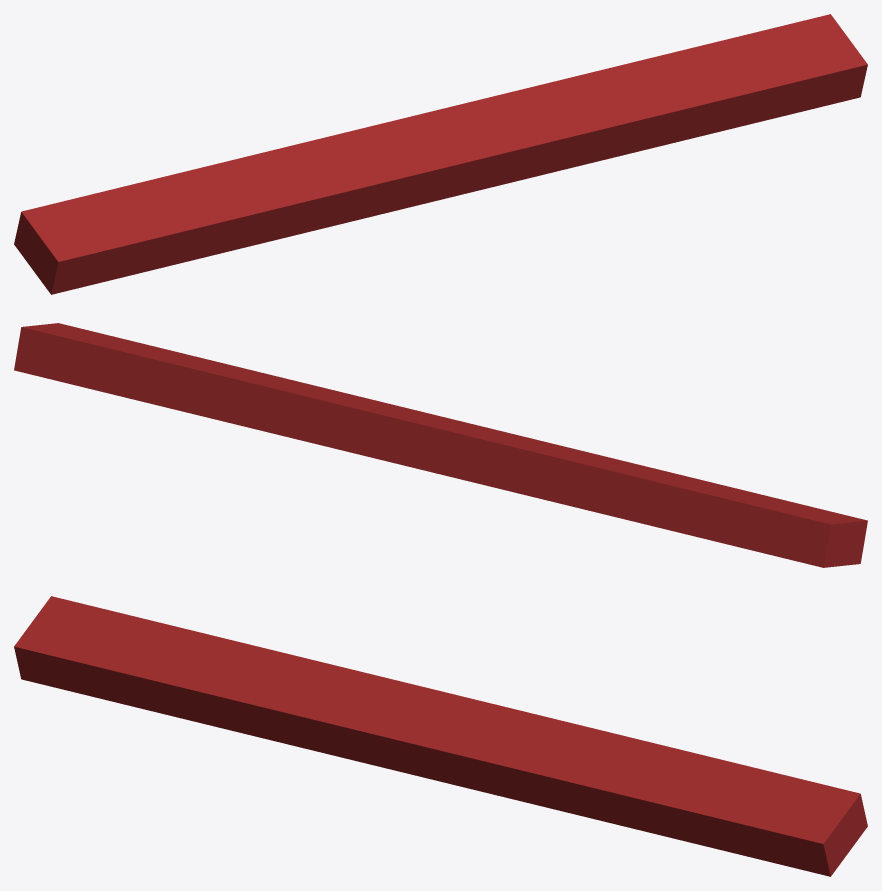
The model's file is Asian_Prop_Building_Modular_Roof_Beam_02.FBX.
The picture shows the model from 3 angles, top to bottom: view 1: azimuth 30°, elevation 25°; view 2: azimuth 150°, elevation 25°; view 3: azimuth 330°, elevation 25°; orthographic projection.
Parts seen in each view (by area): view 1: Asian_Prop_Building_Modular_Roof_Beam_02; view 2: Asian_Prop_Building_Modular_Roof_Beam_02; view 3: Asian_Prop_Building_Modular_Roof_Beam_02.
Boxes of the visible parts, x1,y1,x2,y2 form: Asian_Prop_Building_Modular_Roof_Beam_02: (14, 14, 867, 294); Asian_Prop_Building_Modular_Roof_Beam_02: (14, 323, 867, 567); Asian_Prop_Building_Modular_Roof_Beam_02: (14, 596, 867, 876).
Bounding box in the file's own units: 5167 × 374 × 492.
